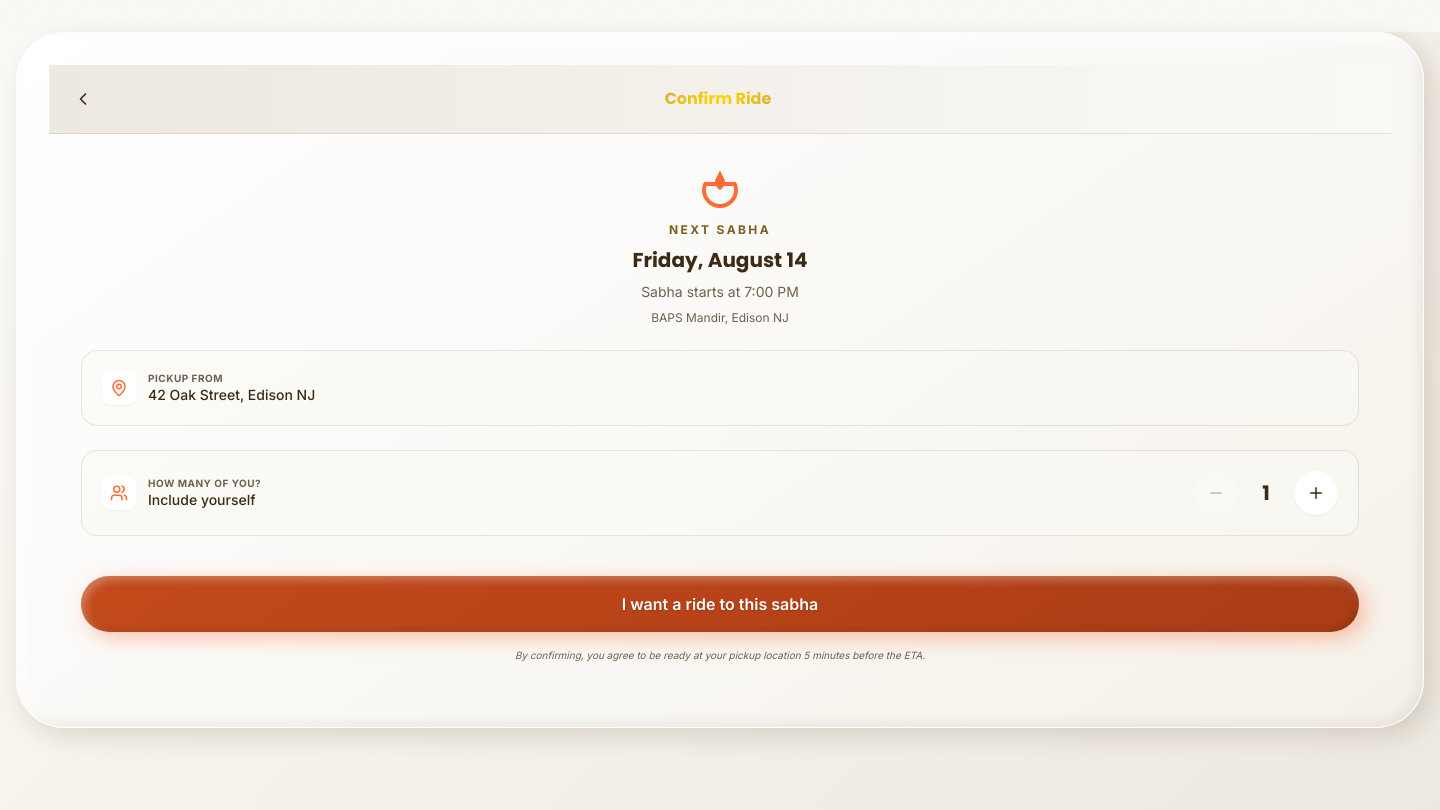
PickupForm — confirmation › warns a splittable group at booking time, not at the kerb
Click the button named "one more person" at (1316, 493), box [1294,471,1338,515]
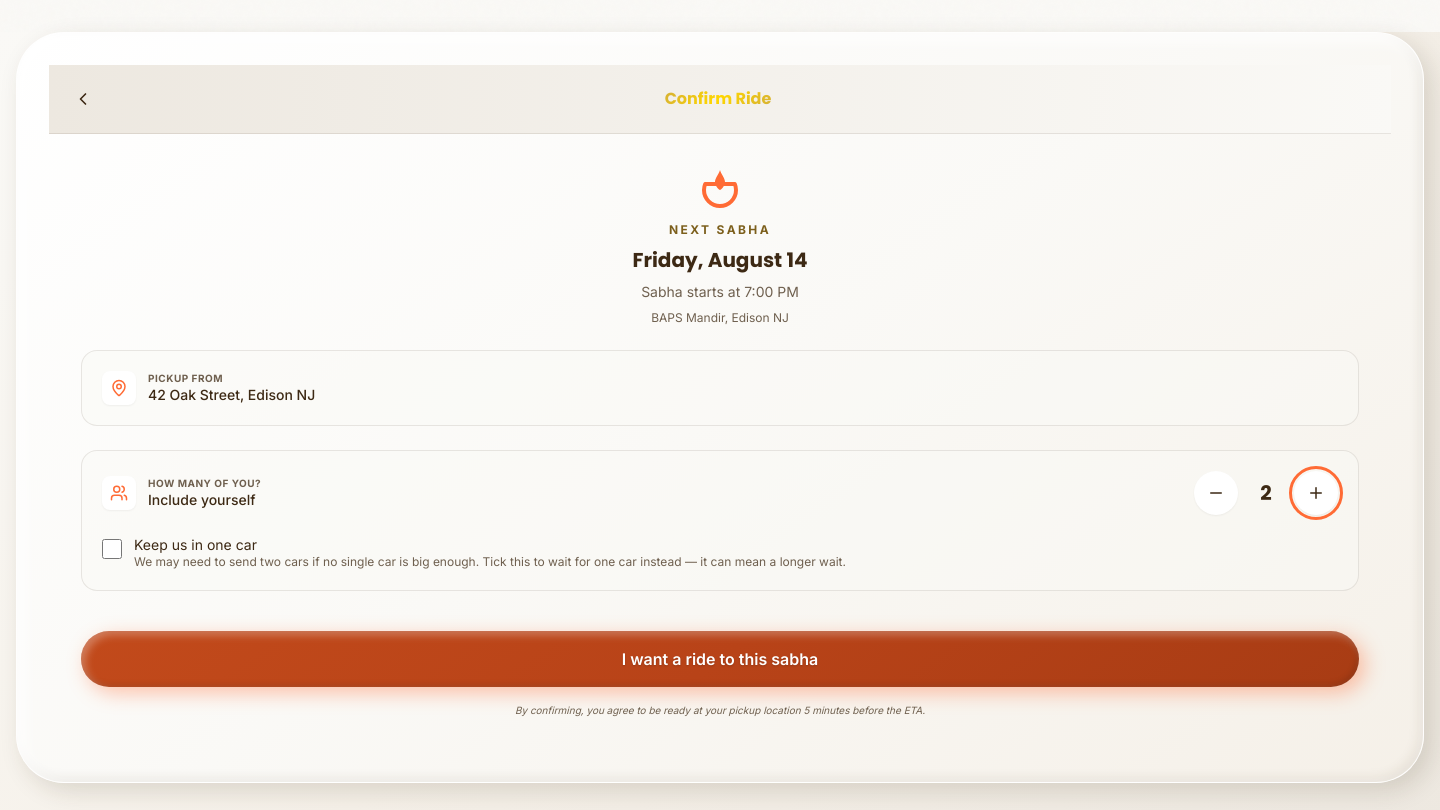
Click the button "I want a ride to this sabha" at (720, 659), box [81,631,1359,687]
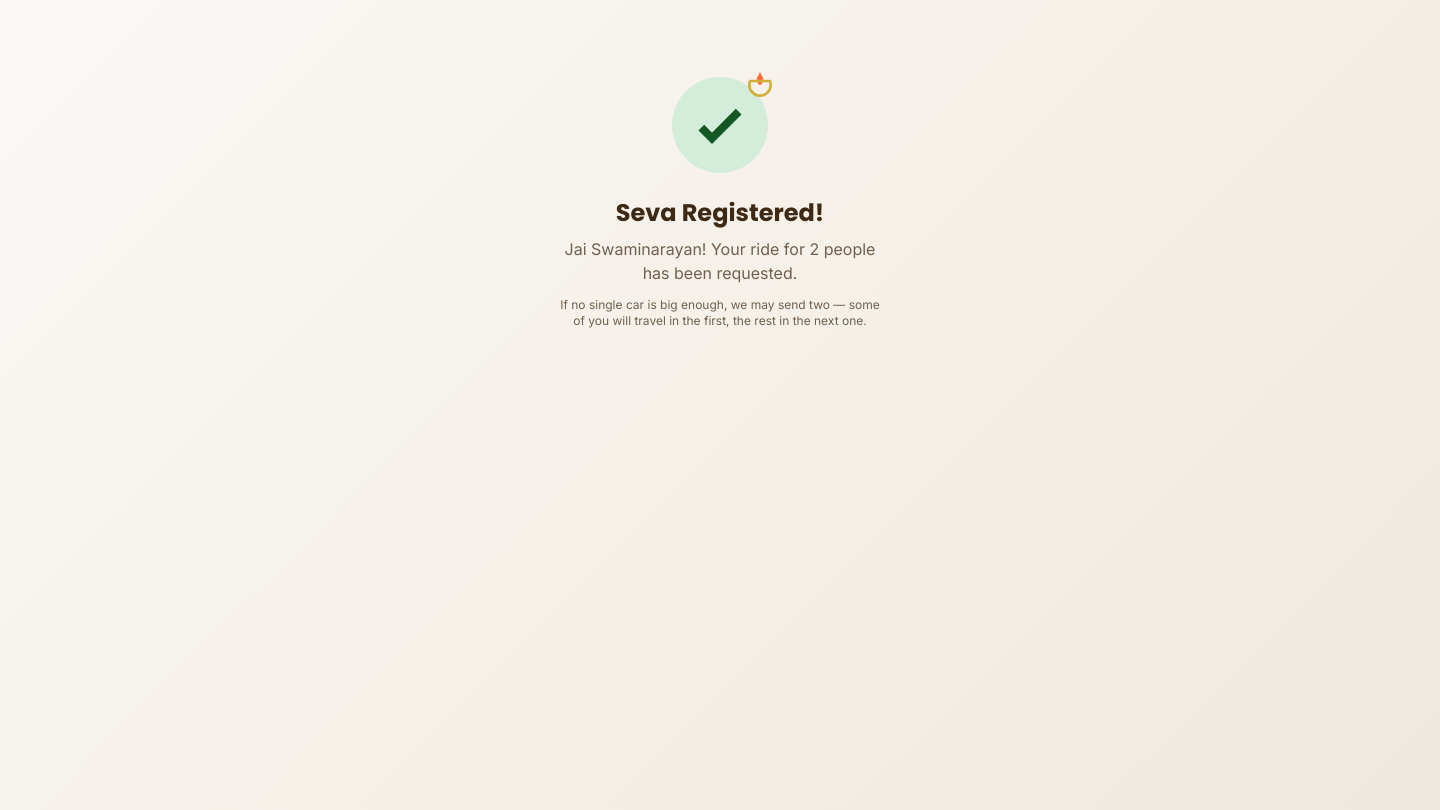
Expected: the text "we may send two" is shown, [560,296,880,328]
